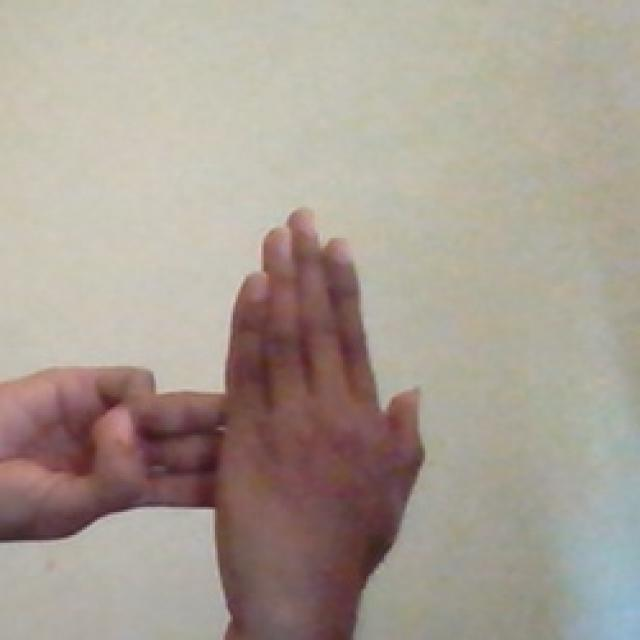Alphabet-M: (0, 146, 425, 637)
